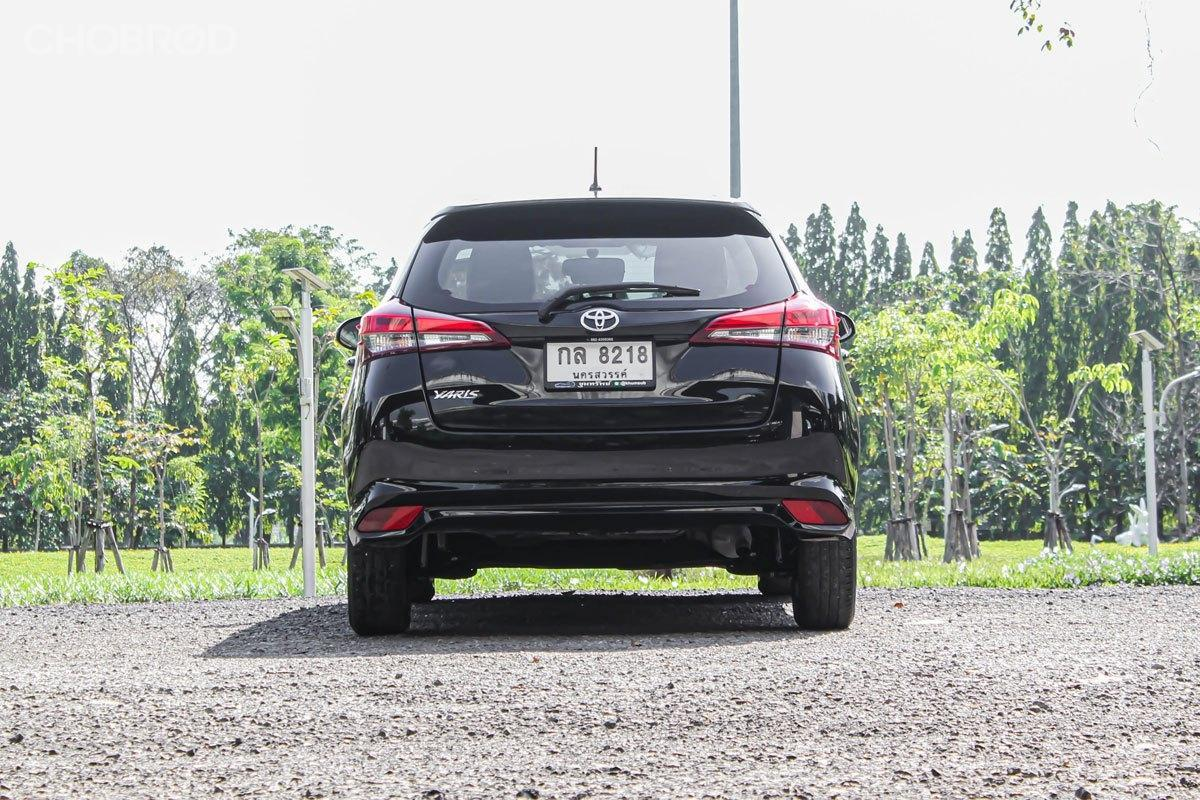license-plate: (539, 333, 658, 397)
